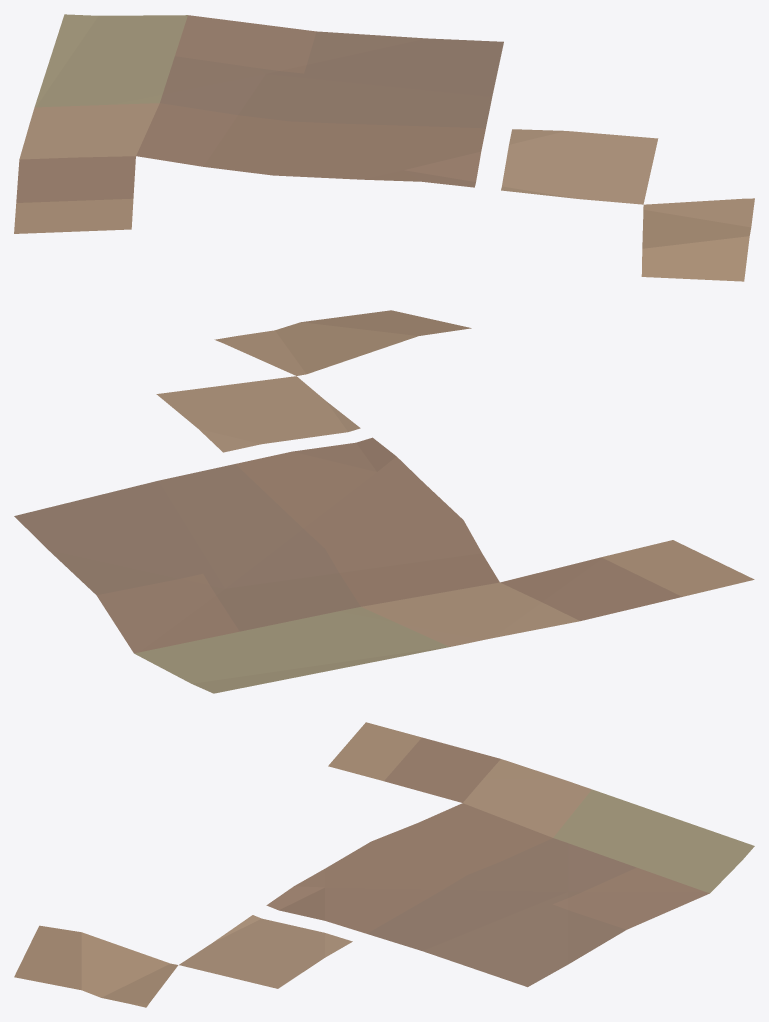
The model's file is farm_-2_-2_soil.glb.
3 views of the same model, one above another, from view 1: azimuth 30°, elevation 25°; view 2: azimuth 150°, elevation 25°; view 3: azimuth 270°, elevation 25° (orthographic). The views are drawn at different scales.
Visible parts, largest first — view 1: geometry_0; view 2: geometry_0; view 3: geometry_0.
Boxes of the visible parts, x1=… form: geometry_0: x1=14, y1=14, x2=754, y2=281; geometry_0: x1=14, y1=310, x2=754, y2=693; geometry_0: x1=14, y1=722, x2=754, y2=1007.
Size of the model in its own units: 206 by 9.82 by 244.
